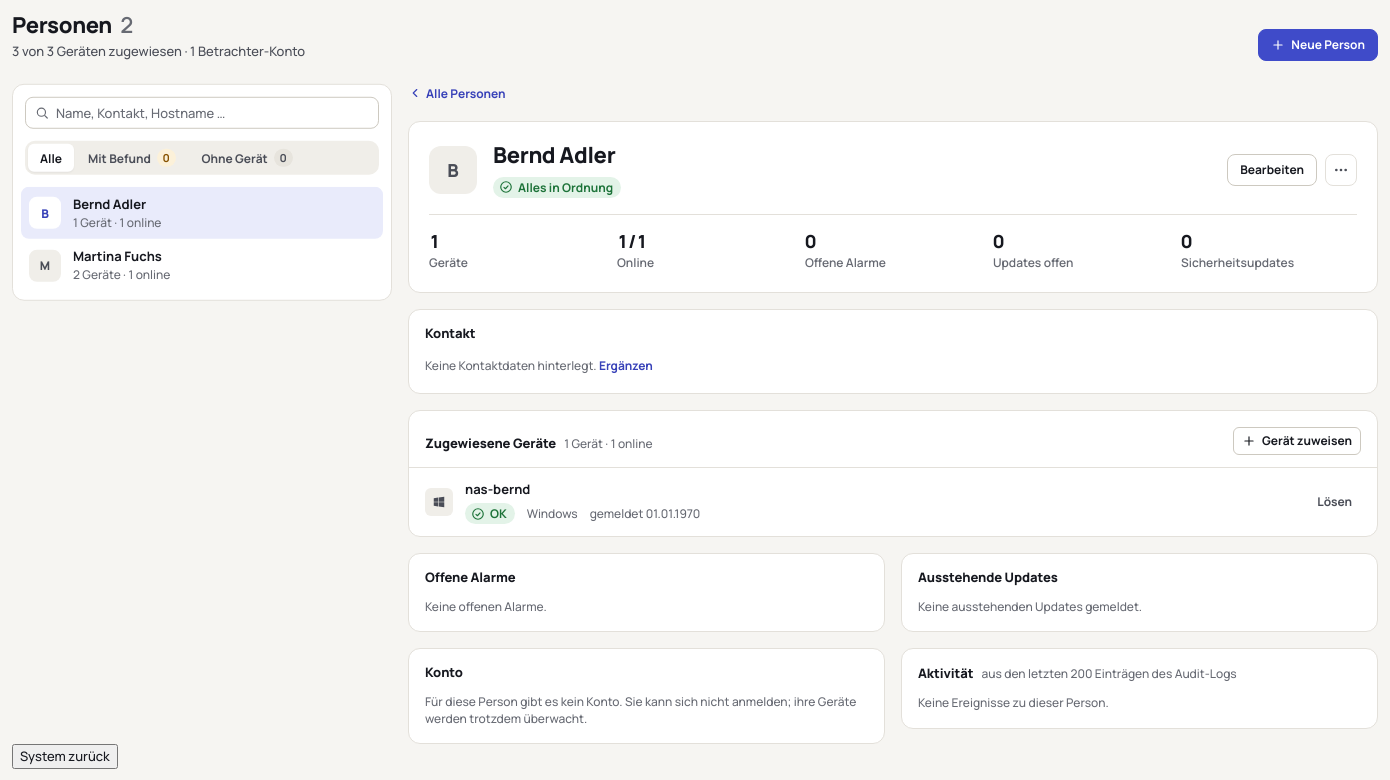
Scenario: PersonsPage › keeps the selection in the URL
Click the button "M Martina Fuchs 2 Geräte · 1 online".
click(45, 265)  # box [21,239,383,291]
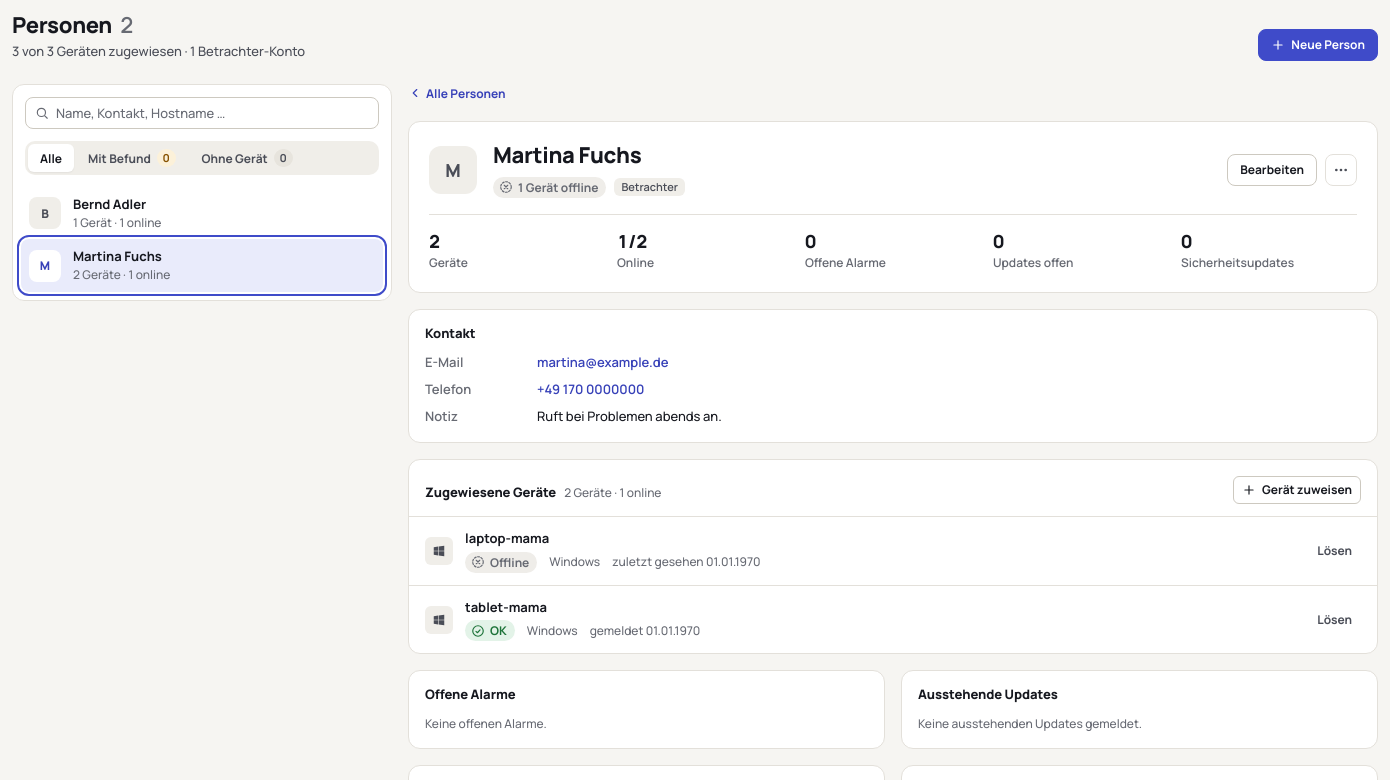
Expected: the heading "Martina Fuchs" is shown, [493,140,641,170]
